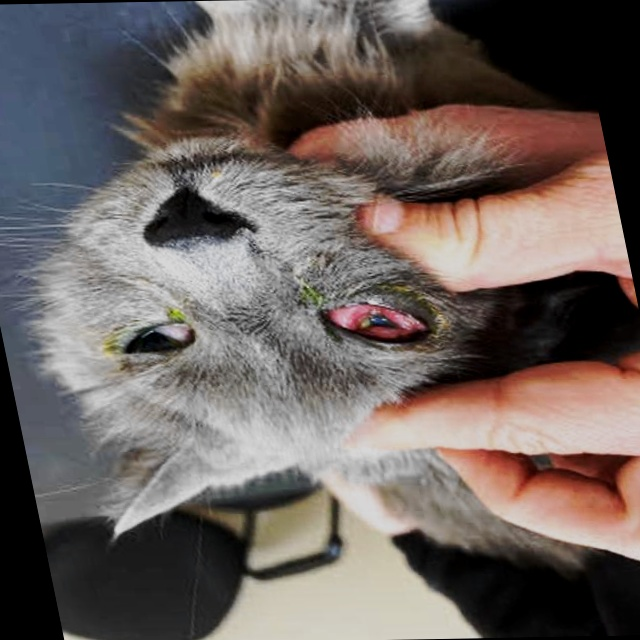eye_infection: (307, 287, 435, 352), (103, 320, 198, 358)
